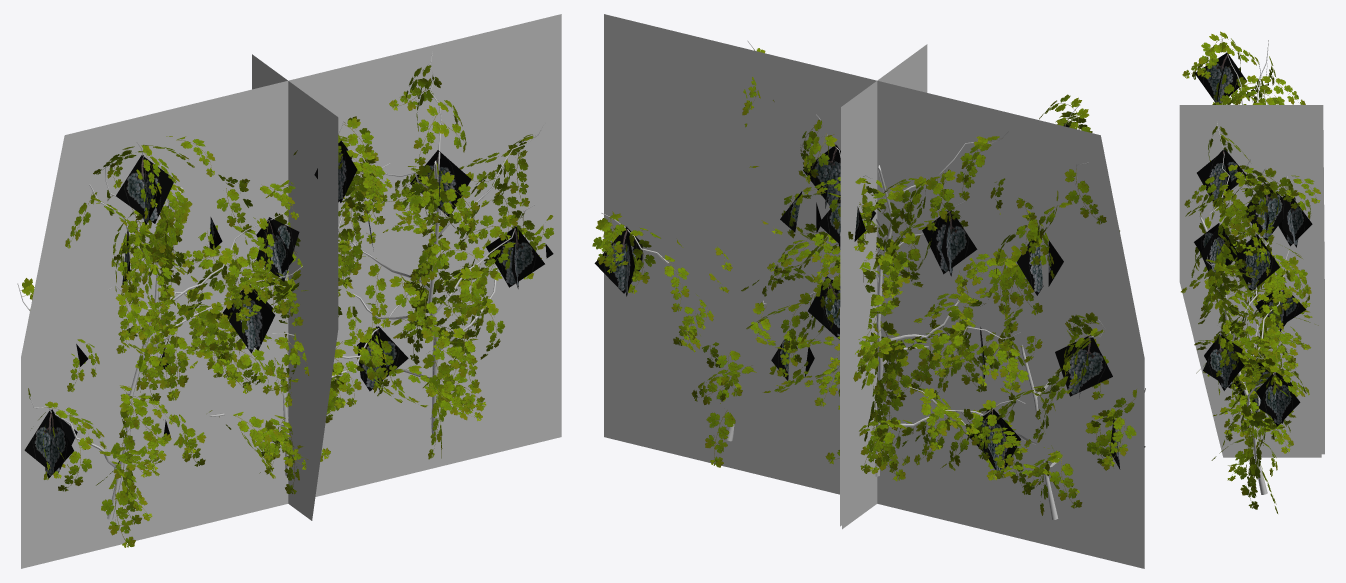
Rendered from Grape_black2.fbx.
3 renders of one model, left to right at view 1: azimuth 30°, elevation 25°; view 2: azimuth 150°, elevation 25°; view 3: azimuth 270°, elevation 25°, orthographic. The views are drawn at different scales.
Visible parts, largest first — view 1: Billboard, LOD0; view 2: Billboard, LOD0; view 3: LOD0, Billboard.
Part boxes in pixels (x1=…): Billboard: x1=21, y1=14, x2=561, y2=568; LOD0: x1=17, y1=51, x2=553, y2=547; Billboard: x1=604, y1=14, x2=1144, y2=568; LOD0: x1=592, y1=40, x2=1145, y2=519; LOD0: x1=1181, y1=31, x2=1320, y2=513; Billboard: x1=1179, y1=105, x2=1324, y2=457.
Size of what is drawn, in the model's own units: 359 by 269 by 106.
